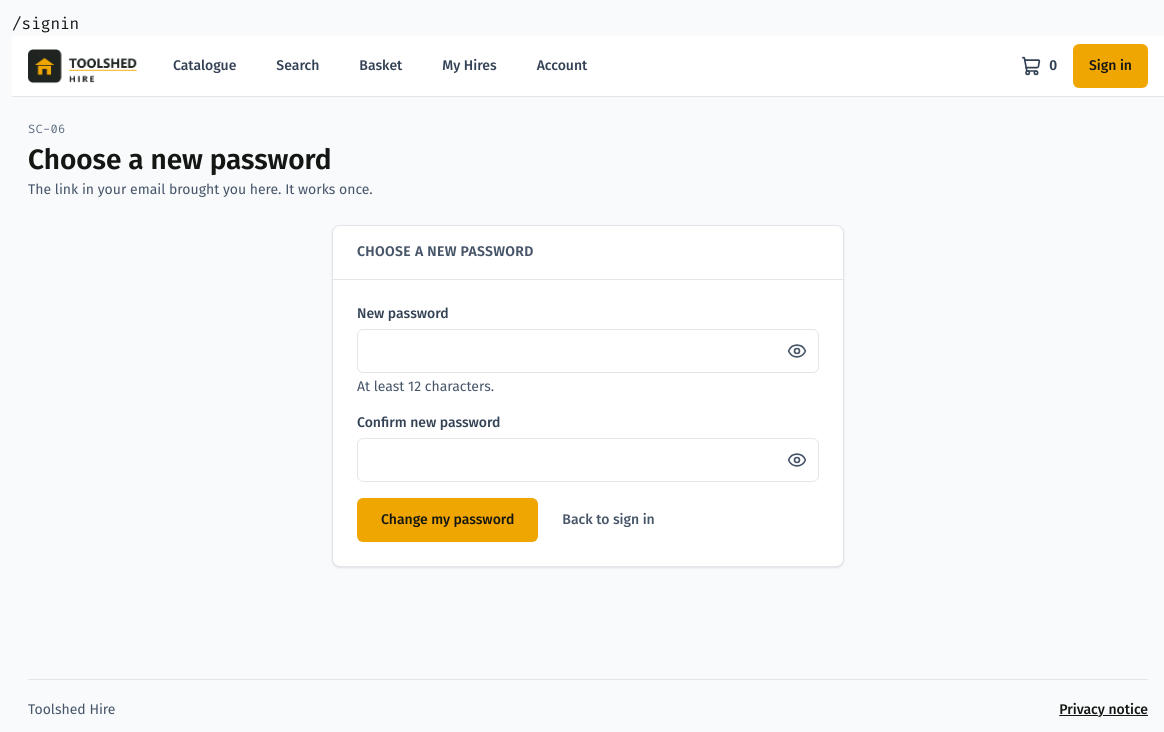
Scenario: choosing a new password from the link › holds back a password under twelve characters, and says why beside the field
This screenshot has width=1164, height=732.
Type "eleven-char" into the password field labelled "New password" at point(588, 351), box [357, 329, 819, 373]
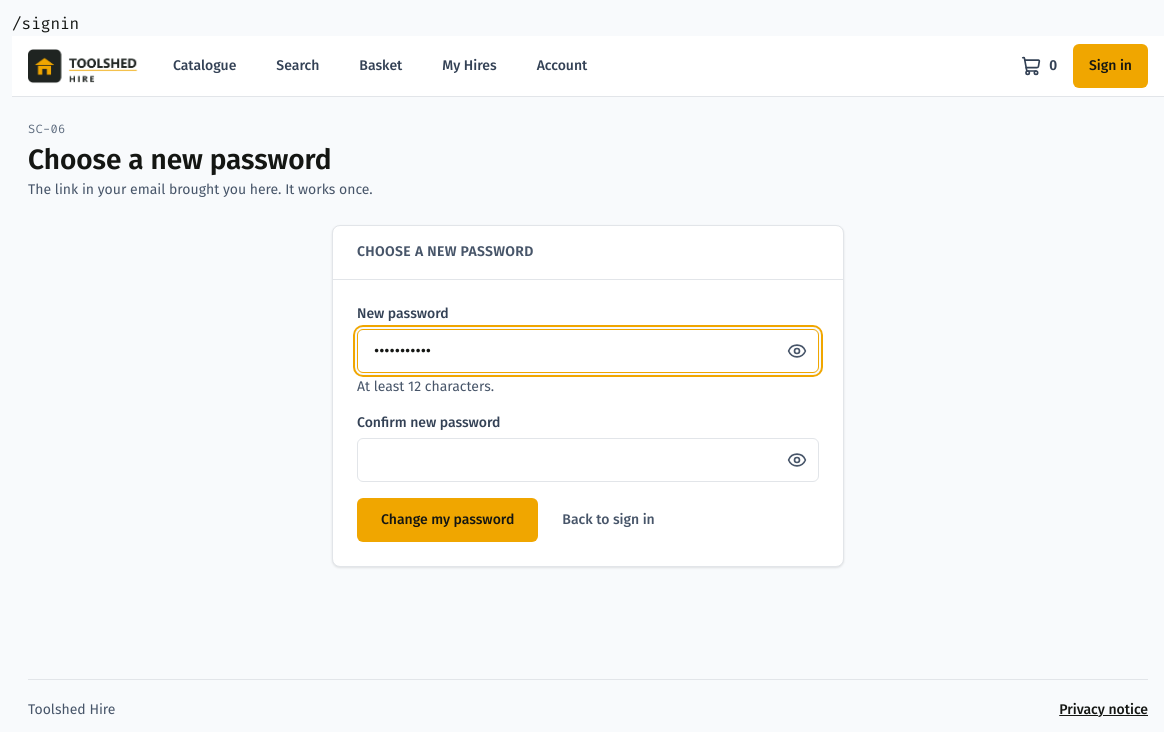
Type "eleven-char" into the password field labelled "Confirm new password" at point(588, 460), box [357, 438, 819, 482]
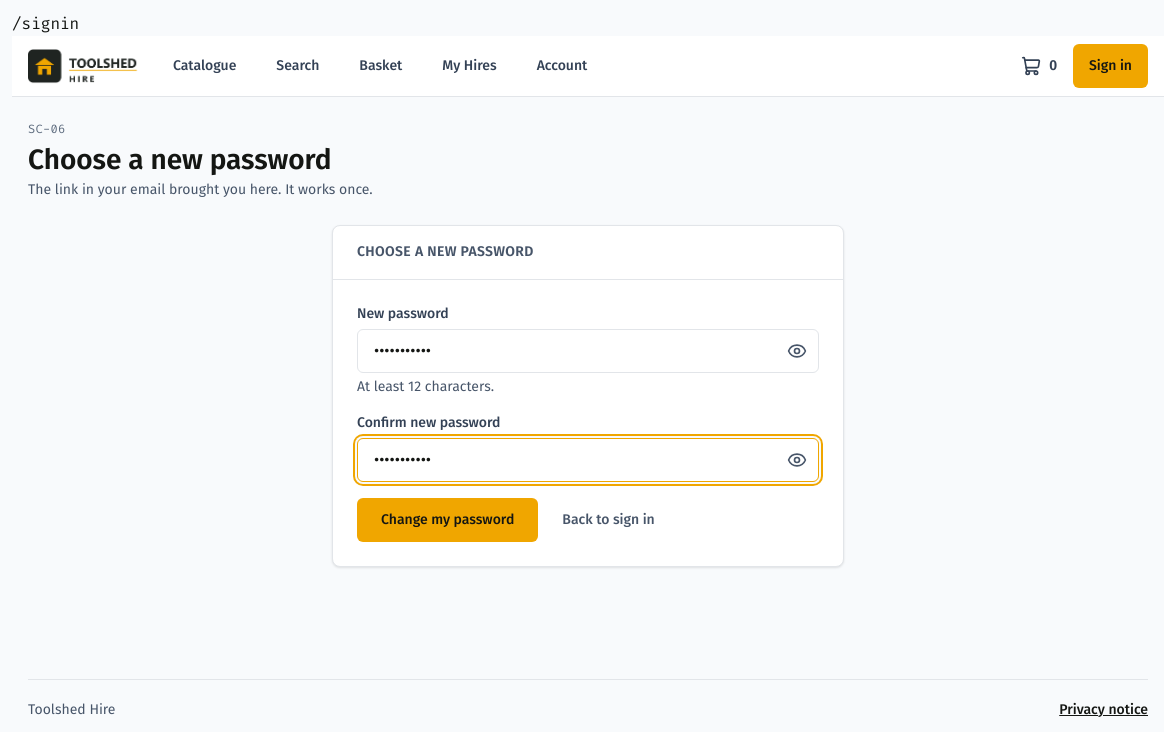
Click the button "Change my password" at point(448, 520), box [357, 498, 538, 542]
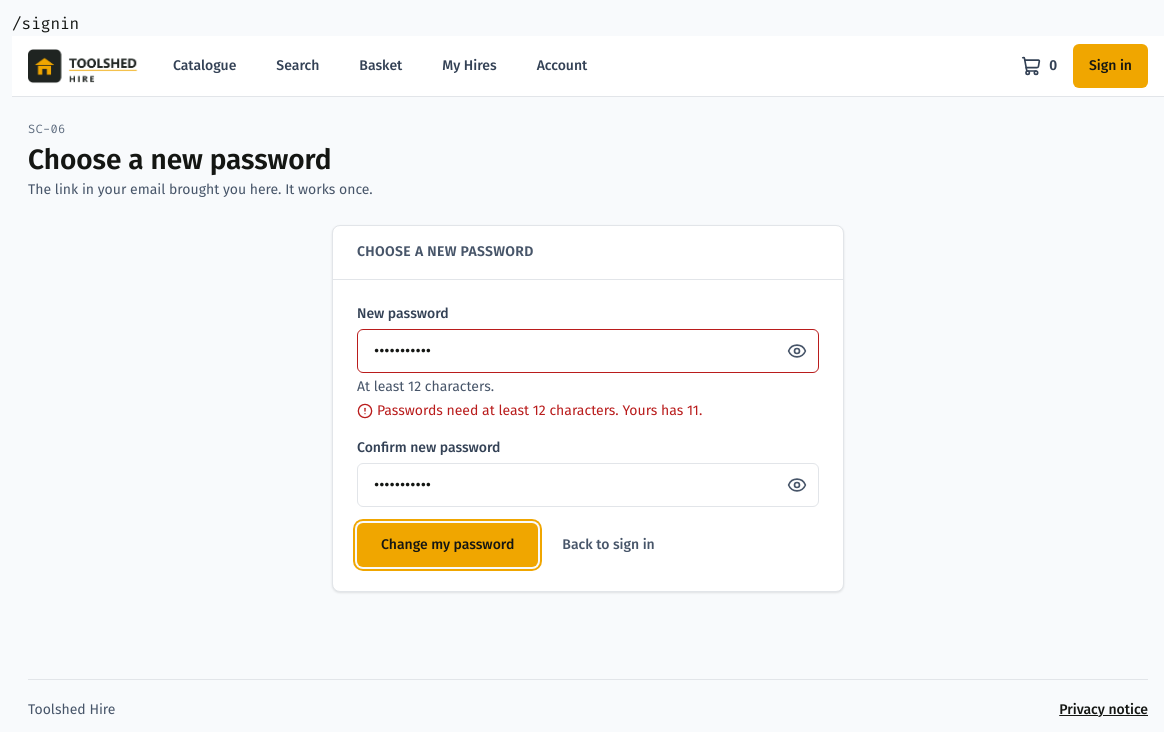
Expected: the text "Passwords need at least 12 characters. Yours has 11." is shown, [377, 401, 702, 422]
